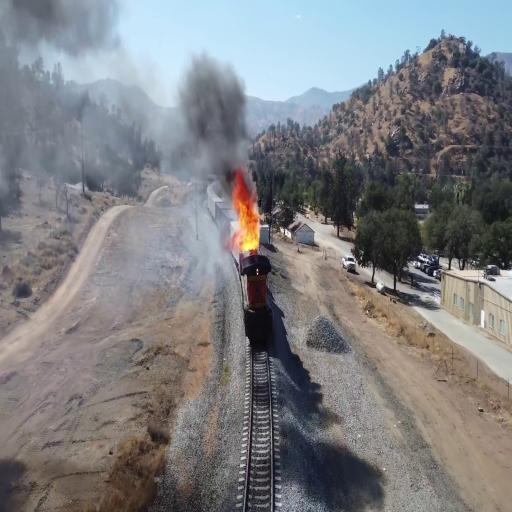fire: (234, 176, 262, 257)
smoke: (0, 0, 110, 65), (178, 52, 250, 148)
